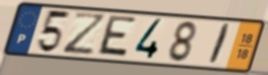4: (132, 17, 164, 62)
5: (36, 8, 71, 55)
8: (167, 20, 199, 64)
E: (94, 14, 139, 60)
I: (206, 22, 233, 67)
Z: (60, 11, 109, 56)
